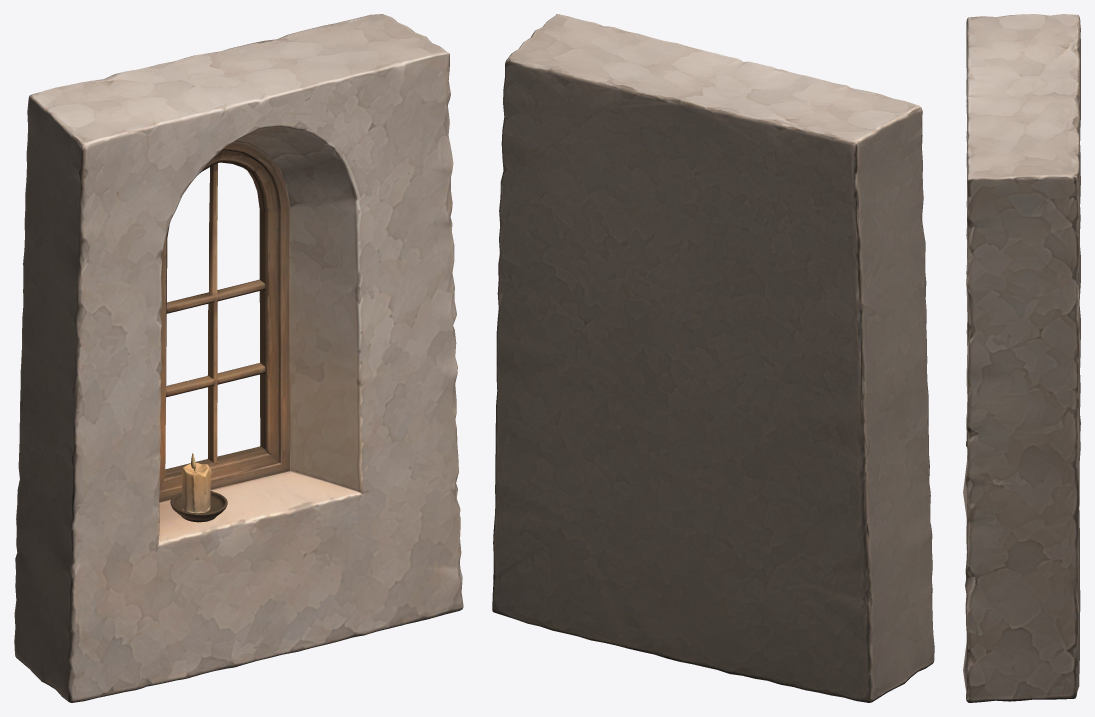
The model's file is act1-a19-6-tall-ward-window.glb.
3 views of the same model, side by side, from view 1: azimuth 30°, elevation 25°; view 2: azimuth 150°, elevation 25°; view 3: azimuth 270°, elevation 25° (orthographic). The views are drawn at different scales.
Visible parts, largest first — view 1: act1-a19-6-tall-ward-window; view 2: act1-a19-6-tall-ward-window; view 3: act1-a19-6-tall-ward-window.
Part boxes in pixels (x1,y1,x2,y2): act1-a19-6-tall-ward-window: [14, 14, 463, 702]; act1-a19-6-tall-ward-window: [492, 14, 934, 702]; act1-a19-6-tall-ward-window: [963, 14, 1080, 702].
Size of the model in its own units: 2.4 by 3.29 by 0.6703.
Materials: 1 (1 with a texture image).
